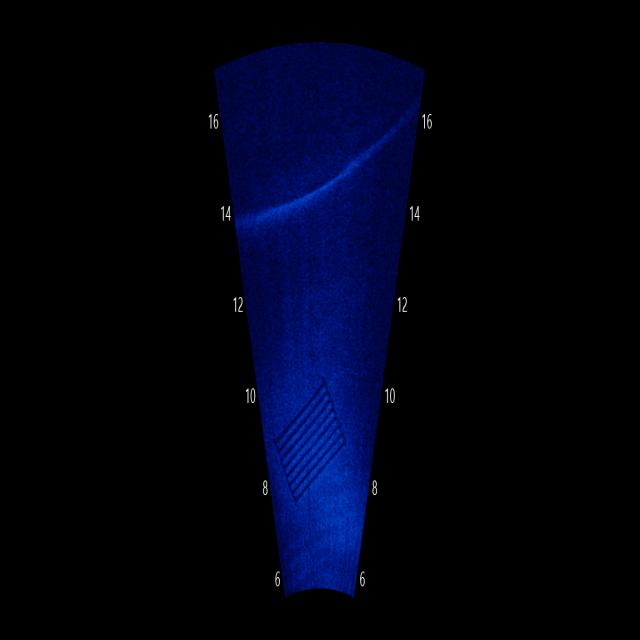square: (268, 374, 369, 517)
